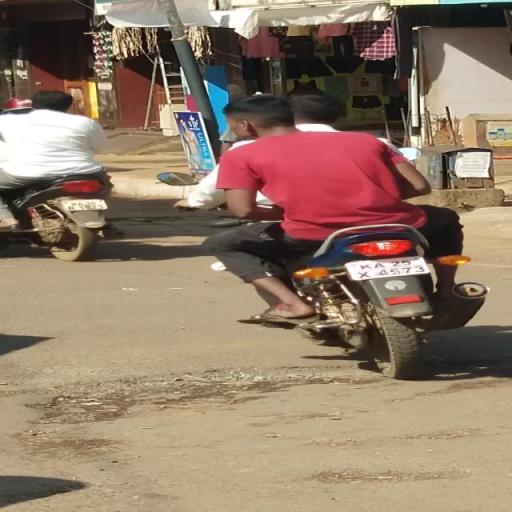bike: (158, 84, 488, 380)
numberplate: (344, 248, 429, 285)
withouthelmet: (219, 86, 294, 142), (292, 92, 337, 126)
